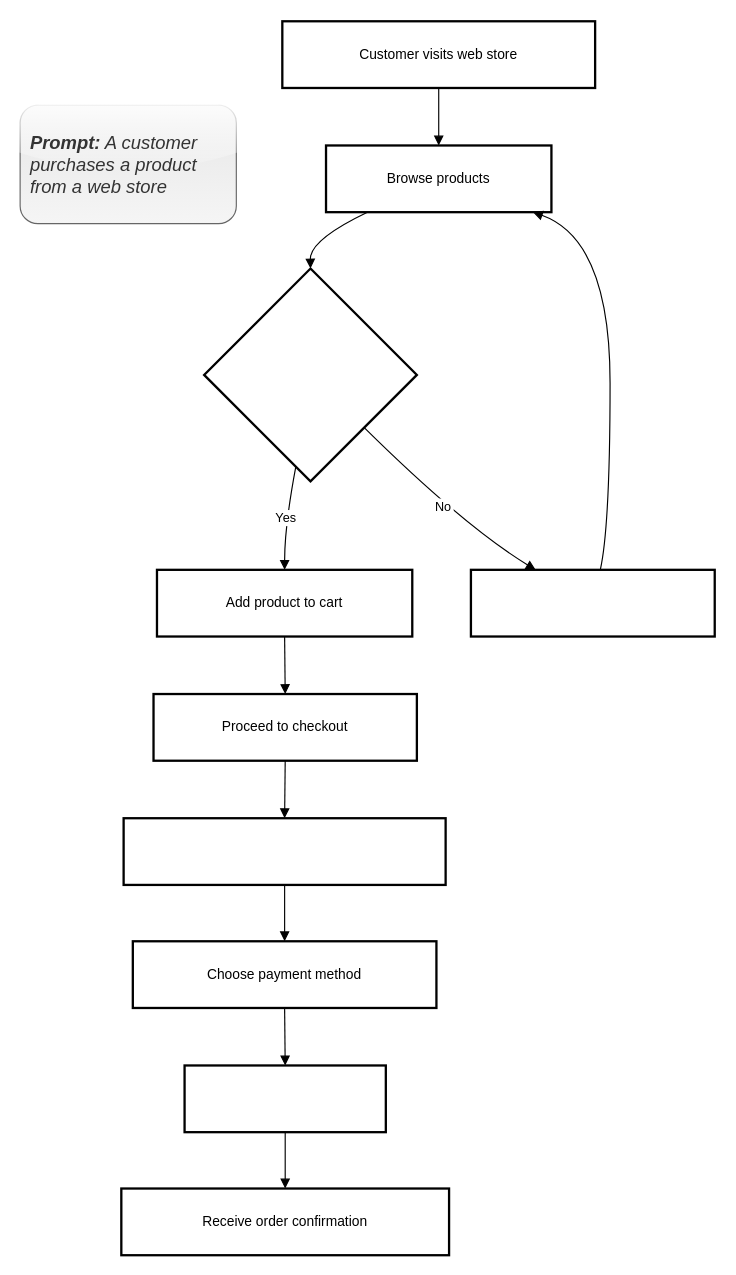
Some shapes in this 736 by 1275 pixel diagram are drawn without their labels. The centre of each missing label's shape, as x and y in pixels:
"Confirm order" belongs at (284,1098).
"Continue browsing" belongs at (592,602).
"Enter shipping information" belongs at (284,850).
"Select product?" belongs at (309,374).
